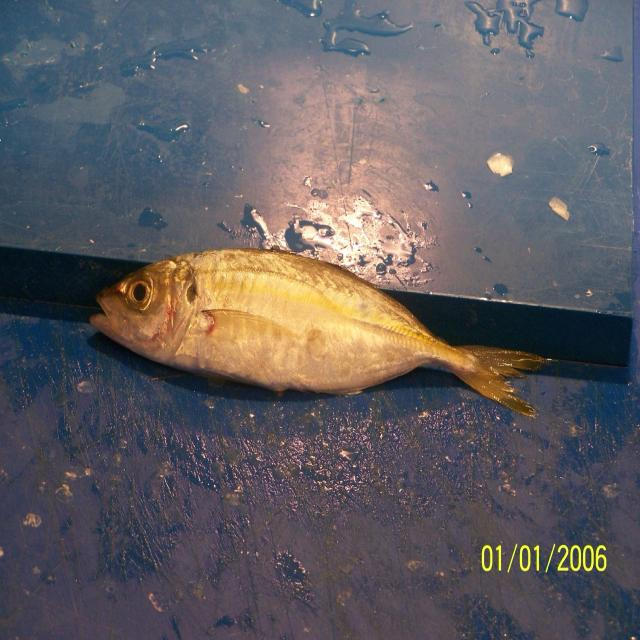Hourse-Mackerel-istavrit-: (87, 249, 556, 417)
